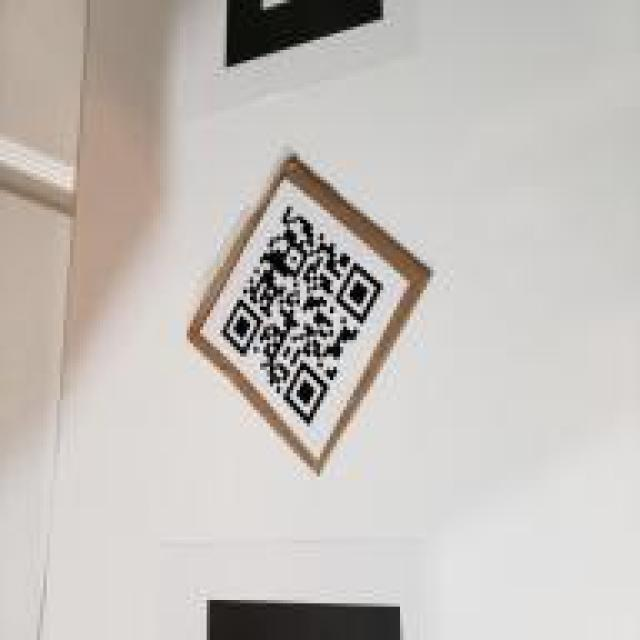qr_code: (219, 207, 384, 425)
